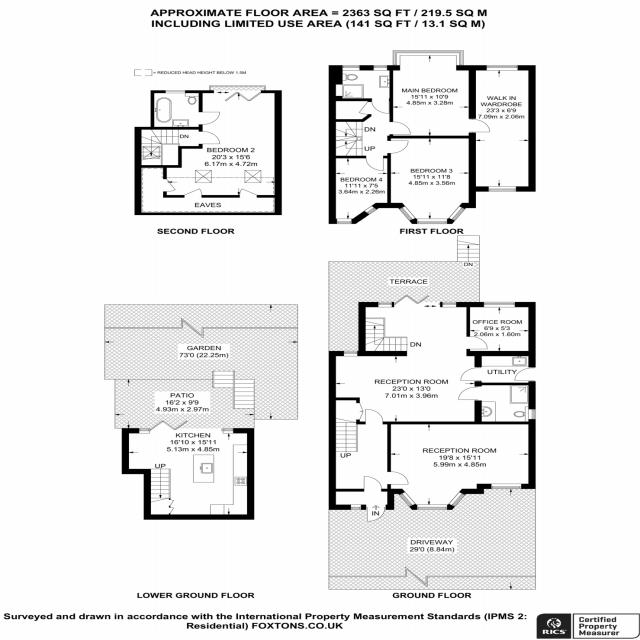DOOR: (459, 366, 482, 382), (458, 386, 482, 401), (365, 505, 386, 522), (362, 475, 382, 492), (514, 367, 536, 382), (468, 118, 490, 133), (364, 408, 384, 424), (387, 471, 409, 485), (466, 336, 488, 350), (387, 140, 409, 154), (389, 121, 411, 135), (198, 111, 220, 125), (371, 98, 390, 114), (199, 131, 220, 145), (365, 156, 384, 171)
FOLDING DOOR: (392, 292, 442, 307)
ROOM: (328, 294, 488, 425), (163, 85, 282, 198), (122, 419, 255, 520), (387, 421, 536, 510), (389, 50, 491, 139), (387, 136, 476, 225), (328, 156, 391, 224)
WINDOW: (392, 49, 464, 66), (447, 205, 467, 222), (398, 491, 417, 508), (448, 491, 467, 508), (398, 206, 417, 222), (416, 218, 449, 225), (483, 302, 516, 308), (417, 504, 449, 510), (486, 65, 518, 71), (488, 186, 517, 192), (363, 205, 378, 215), (342, 65, 360, 71), (336, 218, 352, 224), (343, 351, 358, 357), (442, 302, 457, 308), (528, 409, 536, 420), (373, 65, 387, 71), (165, 90, 186, 94), (350, 504, 362, 510), (378, 302, 392, 307)
